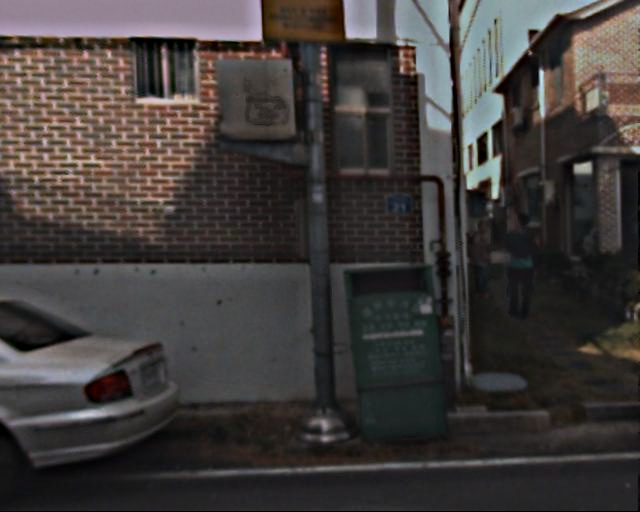person: (491, 209, 541, 326), (460, 216, 498, 303)
